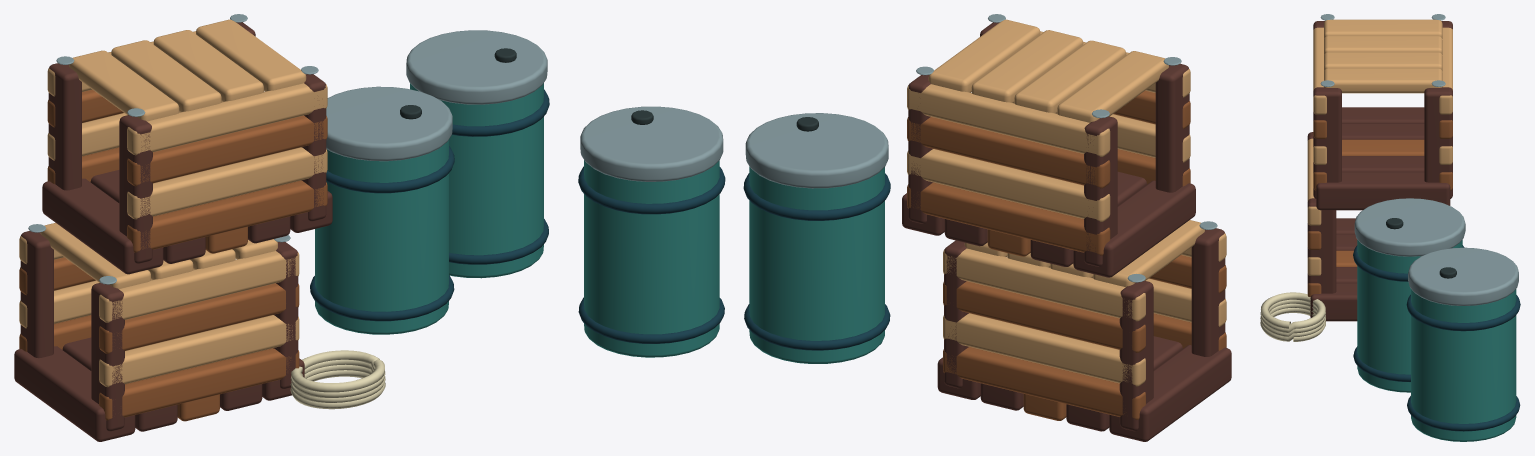
The model's file is AparejosMuelle.fbx.
The picture shows the model from 3 angles, left to right: view 1: azimuth 30°, elevation 25°; view 2: azimuth 150°, elevation 25°; view 3: azimuth 270°, elevation 25°; orthographic projection. The views are drawn at different scales.
Parts seen in each view (by area): view 1: Surf_Almond.001, Surf_Teal.003, Surf_DarkWood, Surf_Oak.001, Surf_Steel.001, Surf_Navy.003, Surf_Canvas.001, Surf_Rubber.003; view 2: Surf_Almond.001, Surf_Teal.003, Surf_DarkWood, Surf_Oak.001, Surf_Steel.001, Surf_Navy.003; view 3: Surf_Teal.003, Surf_DarkWood, Surf_Almond.001, Surf_Steel.001, Surf_Navy.003, Surf_Oak.001, Surf_Canvas.001, Surf_Rubber.003.
Part boxes in pixels (box(x1,y1,x2,y2)): Surf_Almond.001: box(19, 19, 327, 387); Surf_Teal.003: box(315, 83, 543, 334); Surf_DarkWood: box(14, 22, 332, 441); Surf_Oak.001: box(19, 89, 327, 421); Surf_Steel.001: box(28, 14, 547, 284); Surf_Navy.003: box(310, 89, 549, 321); Surf_Canvas.001: box(290, 350, 385, 409); Surf_Rubber.003: box(400, 48, 516, 119); Surf_Almond.001: box(907, 19, 1226, 386); Surf_Teal.003: box(584, 160, 884, 363); Surf_DarkWood: box(902, 22, 1231, 441); Surf_Oak.001: box(907, 90, 1226, 420); Surf_Steel.001: box(580, 14, 1217, 282); Surf_Navy.003: box(578, 166, 890, 350); Surf_Teal.003: box(1357, 240, 1516, 441); Surf_DarkWood: box(1307, 21, 1452, 321); Surf_Almond.001: box(1307, 19, 1452, 275); Surf_Steel.001: box(1320, 14, 1518, 305); Surf_Navy.003: box(1353, 245, 1520, 431); Surf_Oak.001: box(1307, 120, 1452, 296); Surf_Canvas.001: box(1260, 292, 1325, 341); Surf_Rubber.003: box(1386, 218, 1456, 278).
Size of the model in its own units: 2.55 by 1.41 by 1.36.
